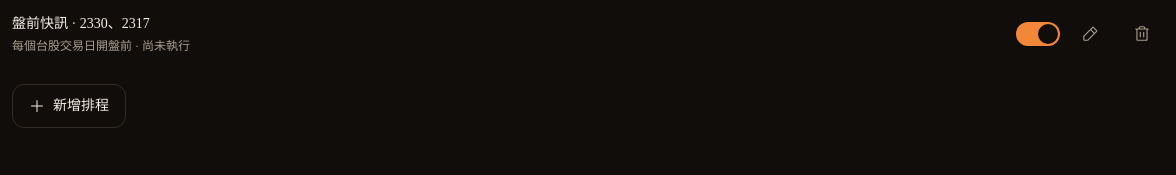
Test: ScheduleList rows › toggling a row updates it with its version, and an error shows the generic alert
What coordinates should you click on to do the following:
click the switch
I would click on:
 (1038, 34)
Its box is [1016,12,1060,56].
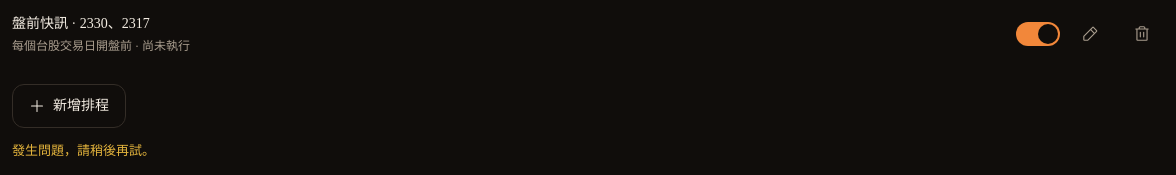
Expected: the message reads "發生問題，請稍後再試。", [12,143,155,158]
